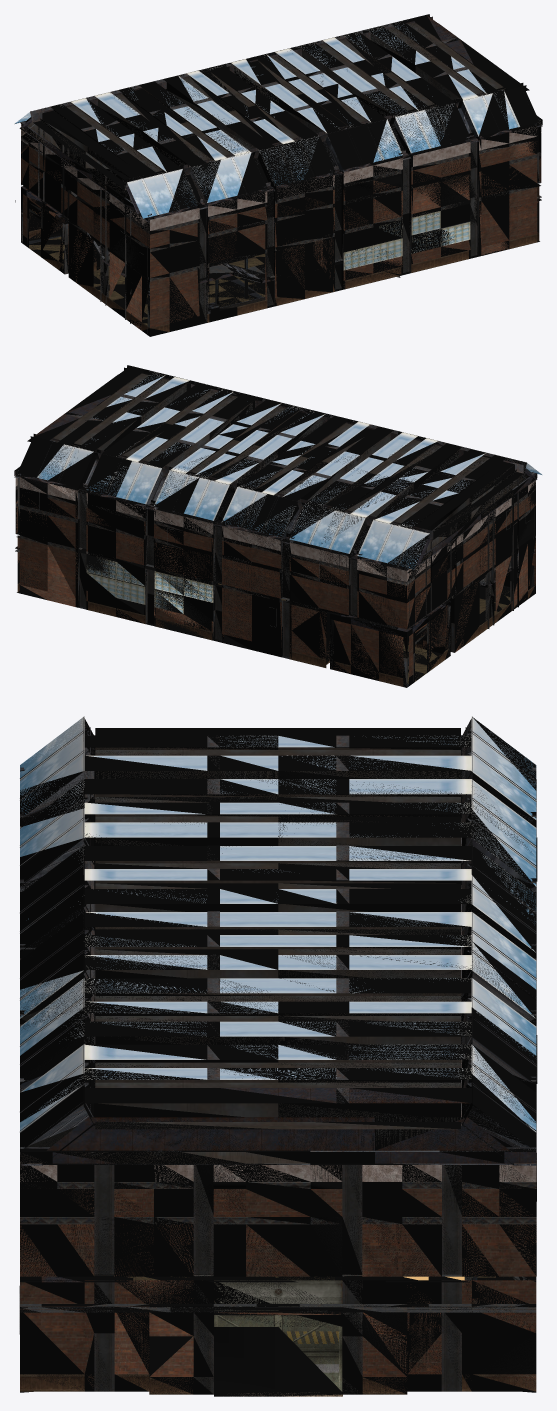
Rendered from BLENDER WARE HOUSE LVEL 1.fbx.
3 renders of one model, top to bottom at view 1: azimuth 30°, elevation 25°; view 2: azimuth 150°, elevation 25°; view 3: azimuth 270°, elevation 25°, orthographic. The views are drawn at different scales.
Visible parts, largest first — view 1: Material2_297, Material2_297_1; view 2: Material2_297, Material2_297_1; view 3: Material2_297, Material2_297_1, Material2_297_1.001.
Boxes of the visible parts, bbox=[...] form: Material2_297: bbox=[15, 14, 542, 336]; Material2_297_1: bbox=[15, 14, 542, 330]; Material2_297: bbox=[14, 365, 541, 687]; Material2_297_1: bbox=[15, 365, 536, 687]; Material2_297: bbox=[19, 716, 537, 1396]; Material2_297_1: bbox=[19, 718, 537, 1396]; Material2_297_1.001: bbox=[214, 1327, 342, 1392].
Bounding box in the file's own units: 4885 × 1690 × 2694.
